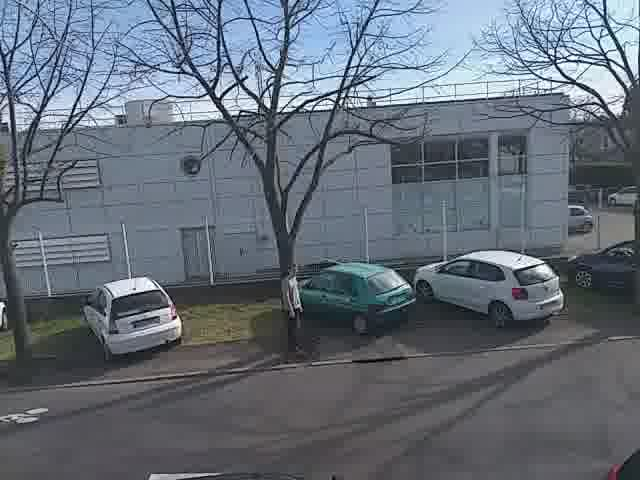persona: (273, 259, 308, 364)
